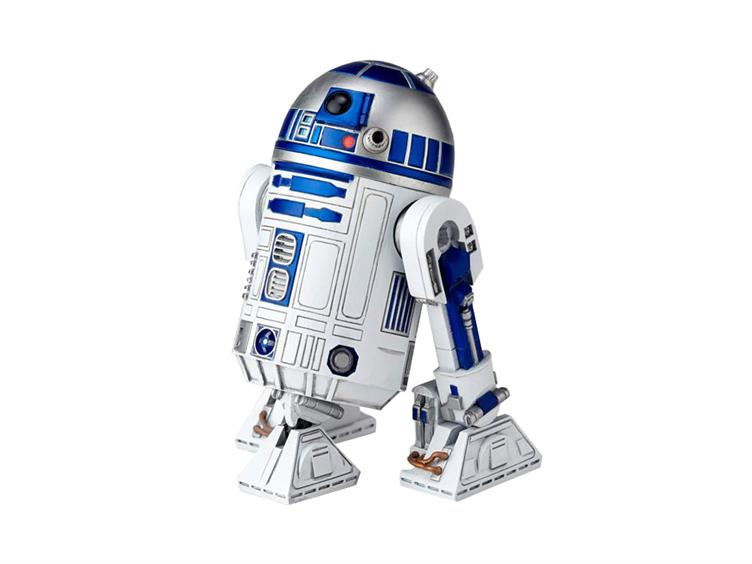r2d2: (232, 57, 544, 510)
